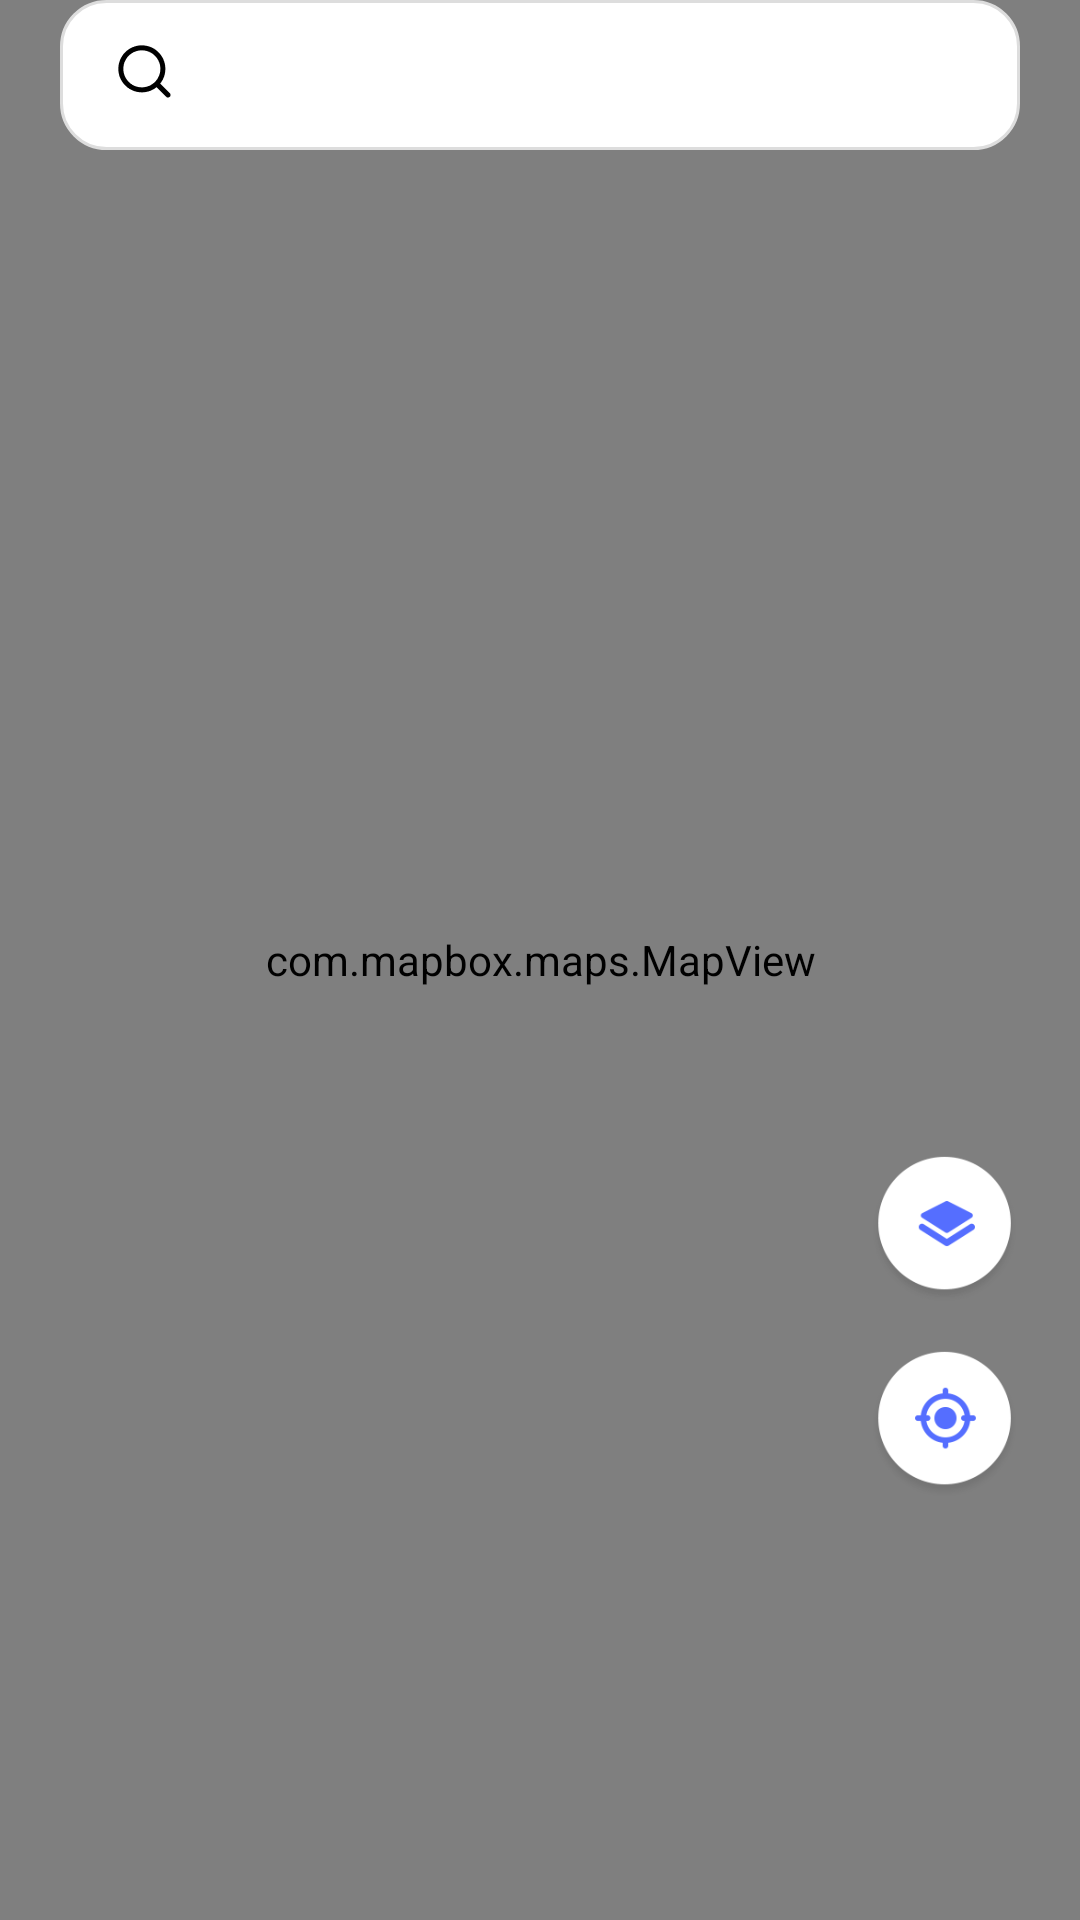

Point at icon controls on the screen. Image size 1080×1920, points as point (x, y).
location pic: point (944, 1418)
map type pic: point (944, 1223)
search: point (144, 71)
